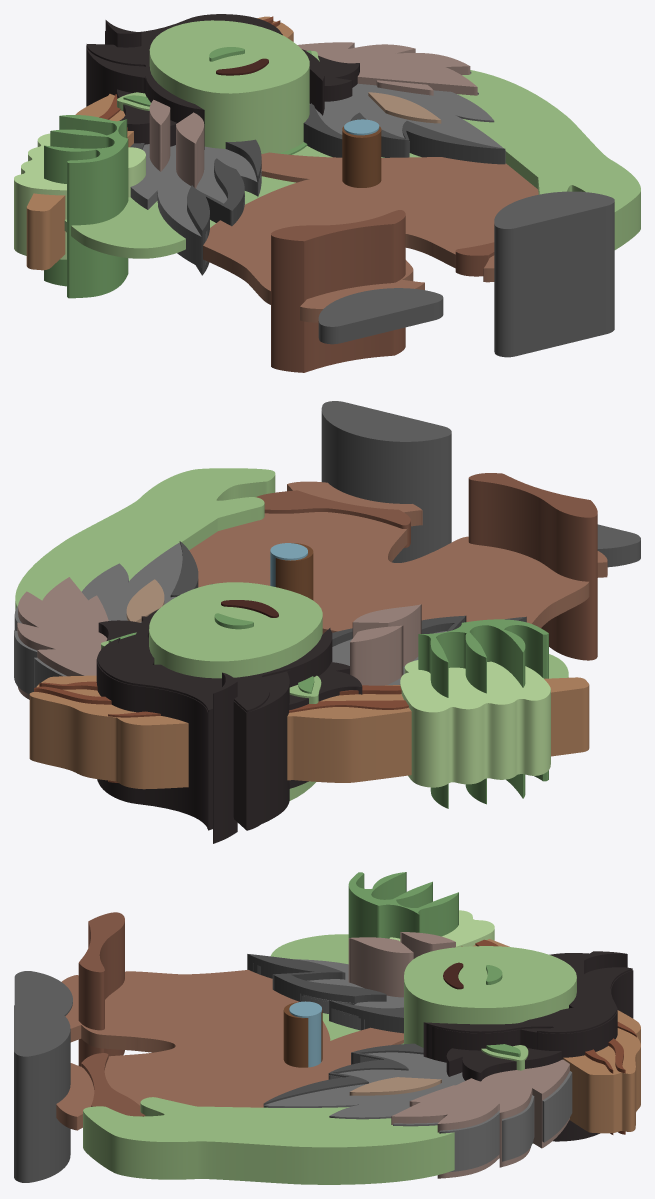
Rendered from emoji_u1f9cc.glb.
The picture shows the model from 3 angles, top to bottom: view 1: azimuth 30°, elevation 25°; view 2: azimuth 150°, elevation 25°; view 3: azimuth 270°, elevation 25°; orthographic projection. The views are drawn at different scales.
Parts seen in each view (by area): view 1: emoji_u1f9cc; view 2: emoji_u1f9cc; view 3: emoji_u1f9cc.
Part boxes in pixels (x1,y1,x2,y2): emoji_u1f9cc: [14, 14, 640, 372]; emoji_u1f9cc: [14, 401, 640, 843]; emoji_u1f9cc: [14, 872, 640, 1184].
Size of the model in its own units: 0.0308 by 0.0086 by 0.0332.
